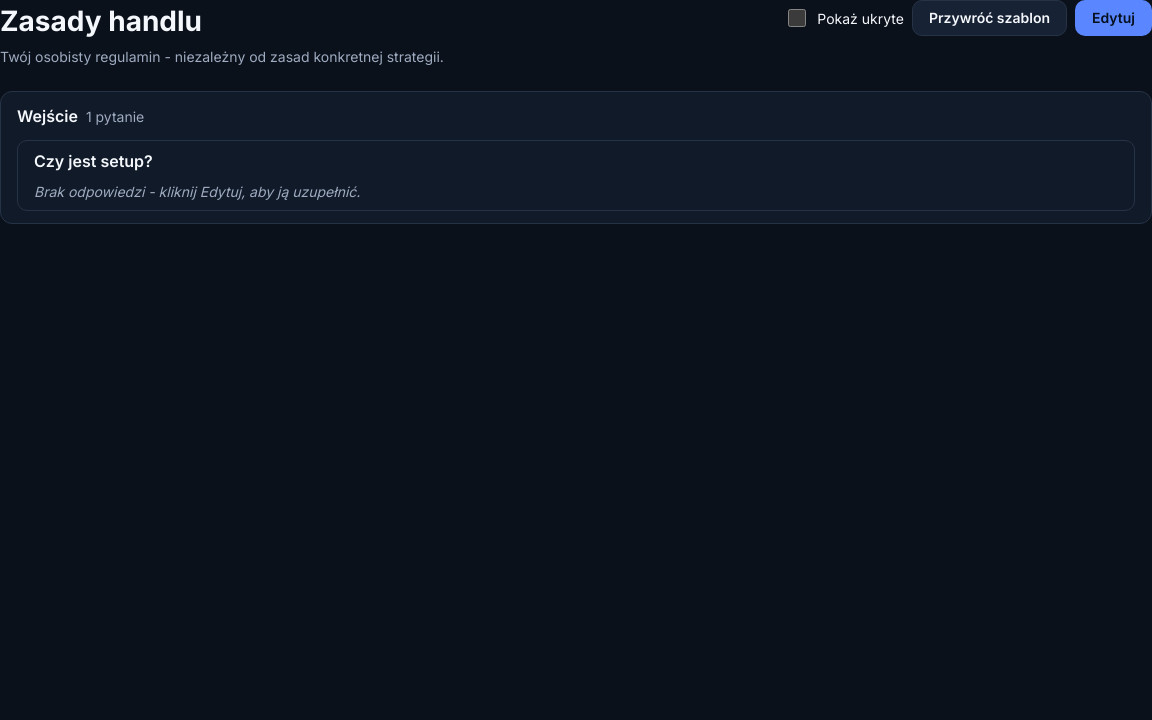
Test: ZasadyHandluPage › 'Do kosza' na pytaniu wymaga potwierdzenia i usuwa je z widoku edycji
Click the button "Edytuj": (1114, 18) top-left (1075, 0), bottom-right (1151, 36)
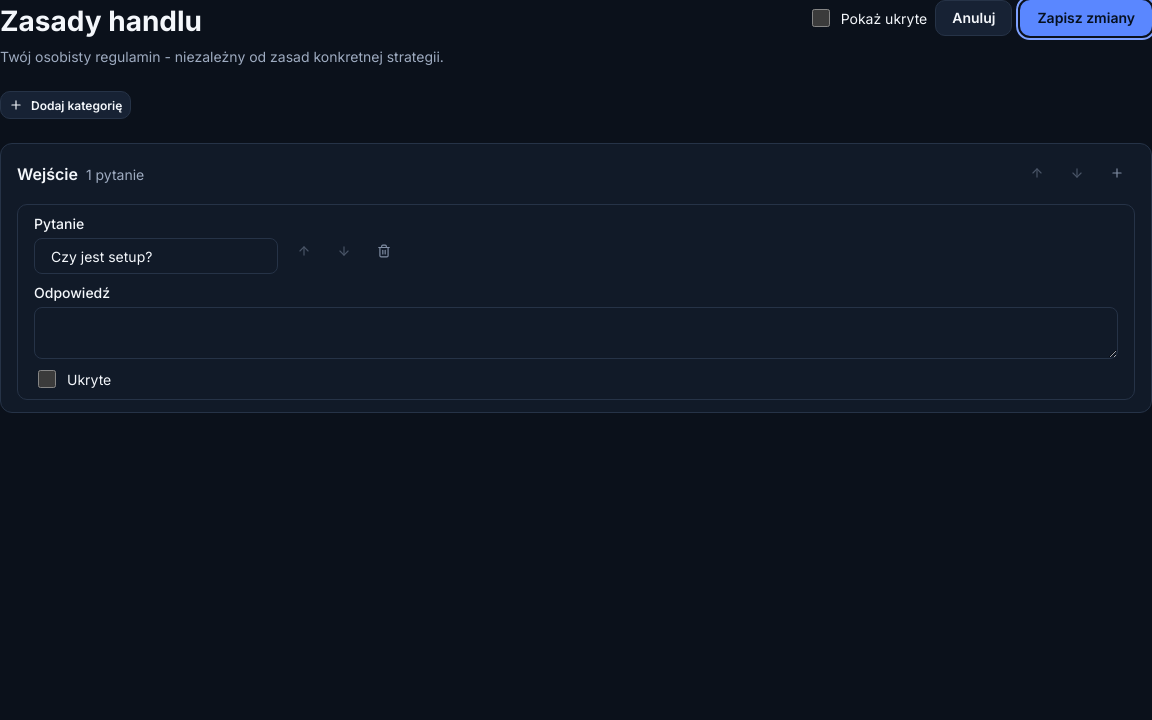
Click the button named "Do kosza: Czy jest setup?": (384, 252) top-left (366, 234), bottom-right (402, 270)
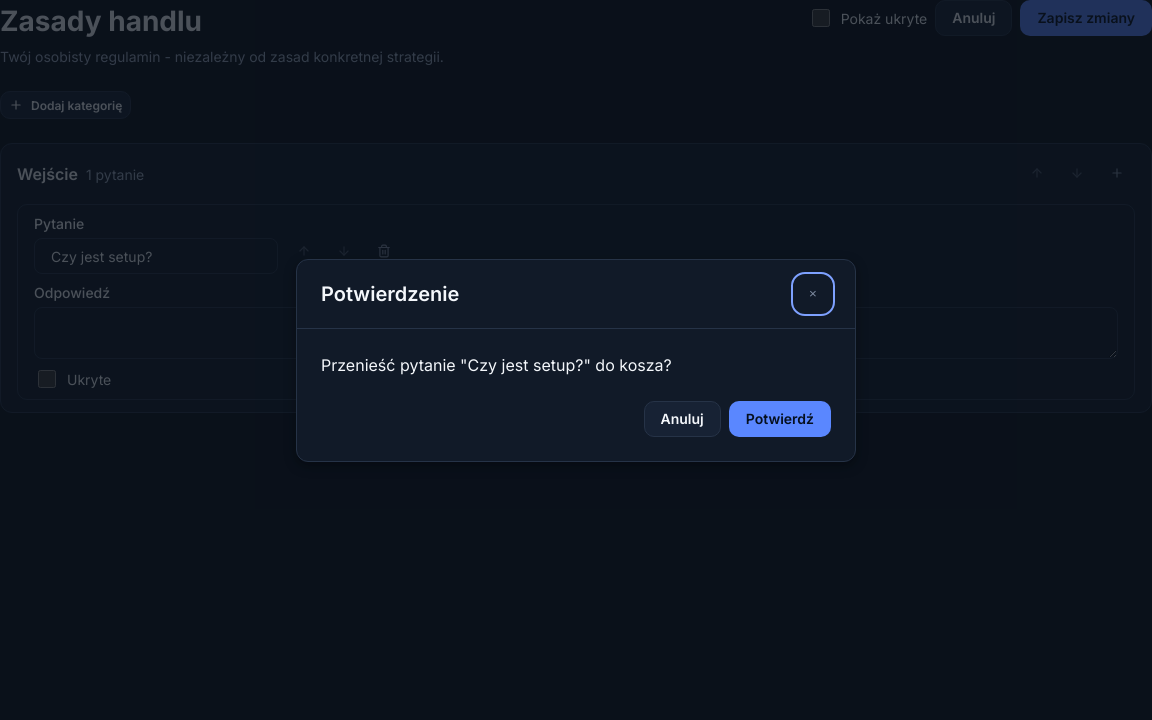
expect the dialog is shown: met, box top-left (296, 258), bottom-right (856, 462)
Click the button "Anuluj": (682, 418) top-left (644, 400), bottom-right (721, 436)
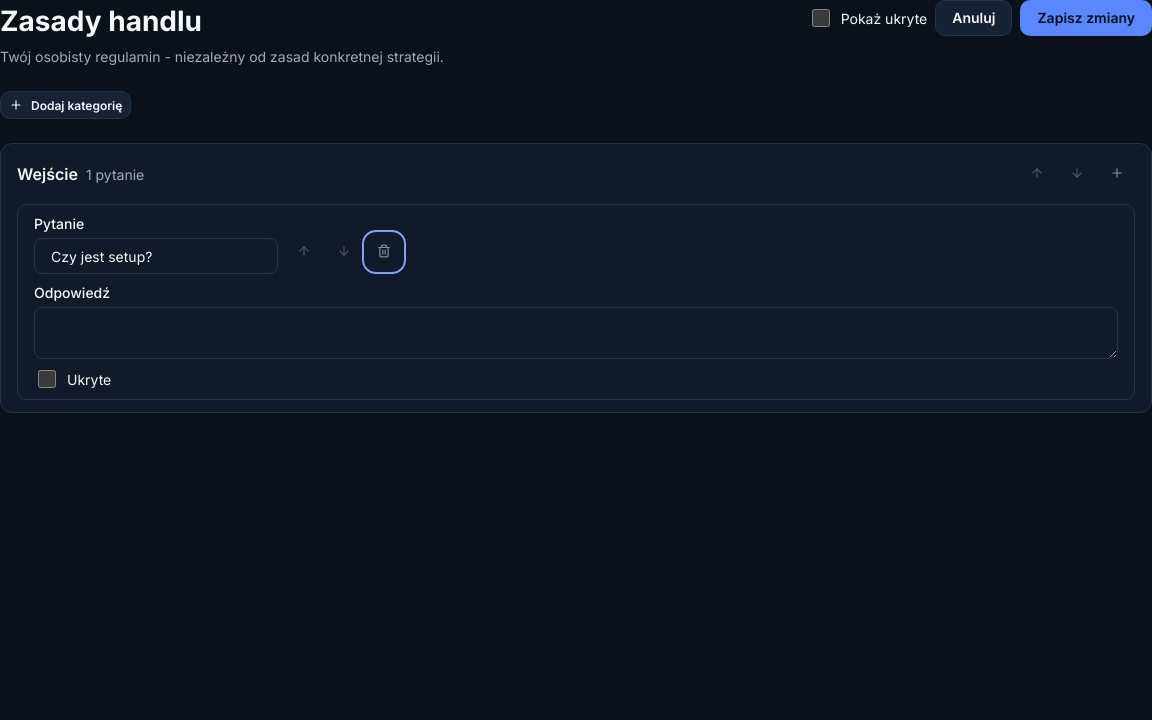
expect the field showing "Czy jest setup?" is shown: met, box top-left (34, 238), bottom-right (278, 274)
Click the button named "Do kosza: Czy jest setup?": (384, 252) top-left (366, 234), bottom-right (402, 270)
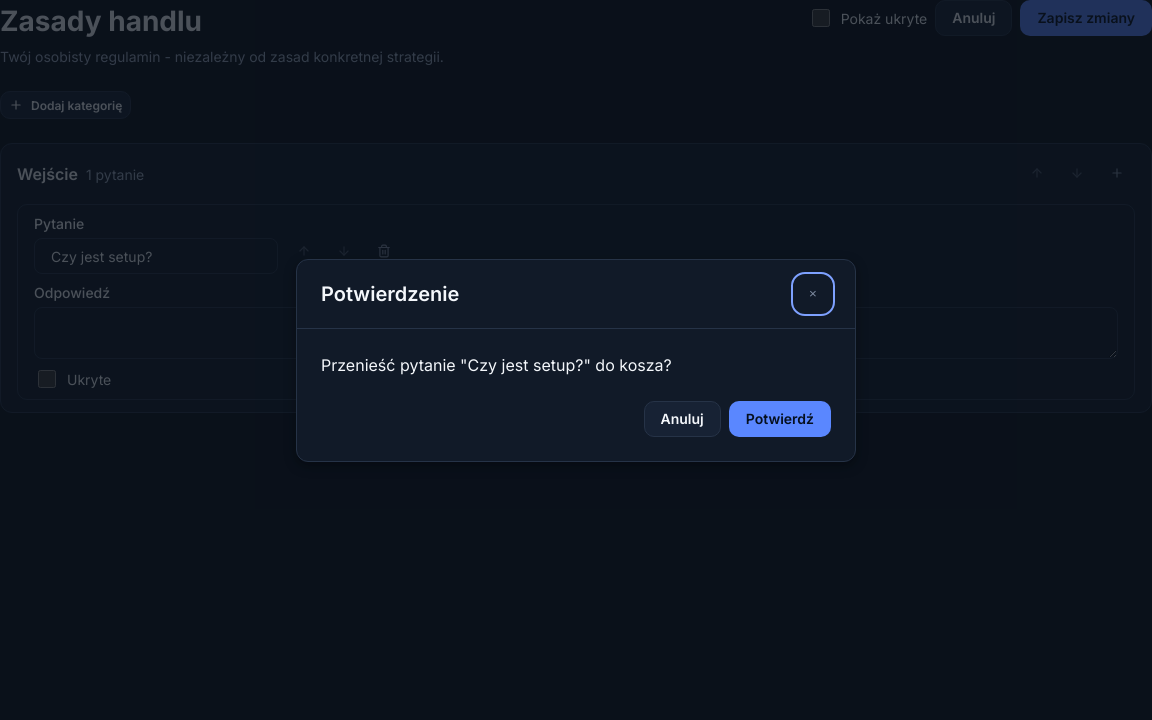
expect the dialog is shown: met, box top-left (296, 258), bottom-right (856, 462)
Click the button "Potwierdź": (780, 418) top-left (729, 400), bottom-right (831, 436)
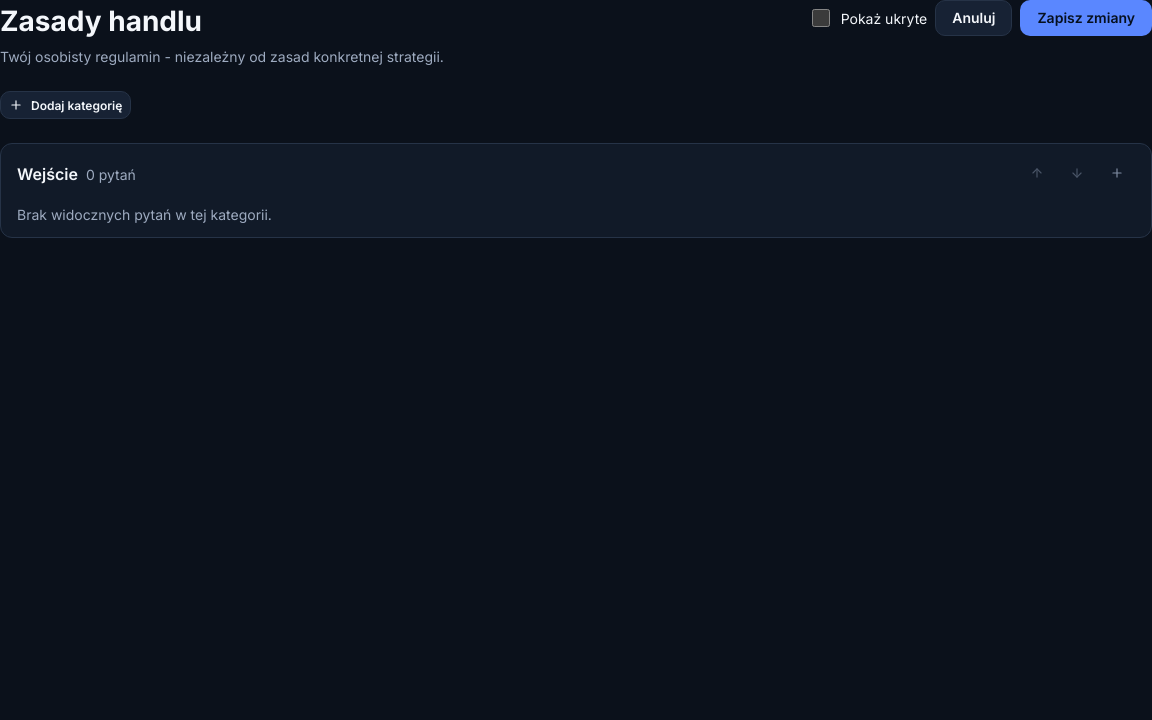
expect the text showing "Czy jest setup?" is gone: met
